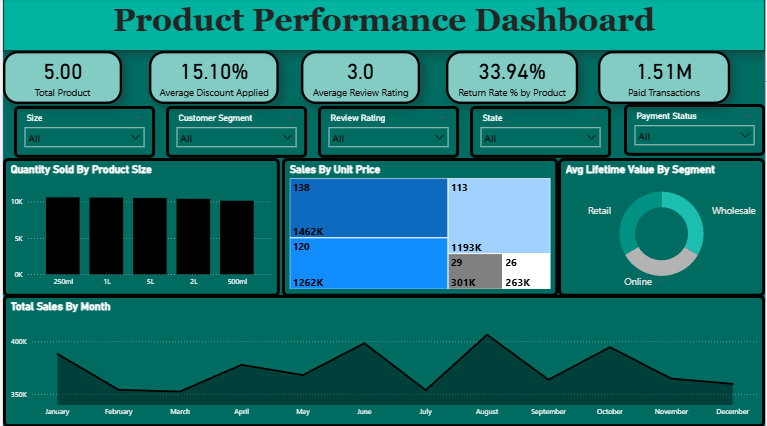

The dashboard page shown, as its layout file describes it:
{"tool":"powerbi","page":{"name":"Page 5","canvas":[1280,720],"ordinal":4},"visuals":[{"type":"shape","box":[0,0,1280,720.6],"z":0},{"type":"textbox","box":[0,0,1279.6,88.9],"z":1000},{"type":"card","fields":{"Values":["bisleri_dataset.Return Rate % by Product"]},"box":[744.1,89,221.7,89],"z":2000},{"type":"card","fields":{"Values":["Avg(bisleri_dataset.Review Rating)"]},"box":[500.6,89,199.9,89],"z":3000},{"type":"card","fields":{"Values":["Avg(bisleri_dataset.Discount Applied)"]},"box":[245.2,89,218.4,89],"z":4000},{"type":"card","fields":{"Values":["Count(bisleri_dataset.Product ID)"]},"box":[0,89,199.9,89],"z":5000},{"type":"treemap","title":"Sales By Unit Price","fields":{"Group":["bisleri_dataset.Unit Price"],"Values":["bisleri_dataset.Total Sales"]},"box":[468.7,268.8,463.6,233.5],"z":6000},{"type":"slicer","title":"Products by Total Sales","fields":{"Values":["bisleri_dataset.Size"]},"box":[18.5,181.4,236.9,87.3],"z":7000},{"type":"slicer","title":"Products by Total Sales","fields":{"Values":["bisleri_dataset.Review Rating"]},"box":[529.1,181.4,236.9,87.3],"z":8000},{"type":"slicer","title":"Products by Total Sales","fields":{"Values":["bisleri_dataset.Customer Segment"]},"box":[273.8,181.4,236.9,87.3],"z":9000},{"type":"slicer","title":"Products by Total Sales","fields":{"Values":["bisleri_dataset.Payment Status"]},"box":[1043.1,178.1,236.9,87.3],"z":10000},{"type":"slicer","title":"Products by Total Sales","fields":{"Values":["bisleri_dataset.State"]},"box":[784.5,181.4,236.9,87.3],"z":11000},{"type":"card","fields":{"Values":["bisleri_dataset.Paid Transactions"]},"box":[999.5,89,221.7,89],"z":12000},{"type":"columnChart","title":"Quantity Sold By Product SIze","fields":{"Category":["bisleri_dataset.Size"],"Y":["bisleri_dataset.Total Quantity Sold"]},"box":[0,268.8,465.3,233.5],"z":13000},{"type":"lineChart","title":"Total Sales By Month","fields":{"Category":["bisleri_dataset.Order Date.Variation.Date Hierarchy.Month"],"Y":["bisleri_dataset.Total Sales"]},"box":[0,498.9,1280,221.7],"z":14000},{"type":"donutChart","title":"Avg Lifetime Value By Segment","fields":{"Category":["bisleri_dataset.Customer Segment"],"Y":["bisleri_dataset.Average Lifetime Value"]},"box":[932.3,268.8,347.7,233.5],"z":15000}]}

Visuals, with their boxes in screenshot pixels (x1, y1, x2, y2), scaled from the page's 1280x720 canvas onto the 767x426 screenshot:
shape: bbox=[0, 0, 766, 425]
textbox: bbox=[0, 0, 766, 53]
card - bisleri_dataset.Return Rate % by Product: bbox=[446, 53, 579, 105]
card - Avg(bisleri_dataset.Review Rating): bbox=[300, 53, 420, 105]
card - Avg(bisleri_dataset.Discount Applied): bbox=[147, 53, 278, 105]
card - Count(bisleri_dataset.Product ID): bbox=[0, 53, 120, 105]
"Sales By Unit Price" treemap: bbox=[281, 159, 559, 297]
"Products by Total Sales" slicer: bbox=[11, 107, 153, 159]
"Products by Total Sales" slicer: bbox=[317, 107, 459, 159]
"Products by Total Sales" slicer: bbox=[164, 107, 306, 159]
"Products by Total Sales" slicer: bbox=[625, 105, 766, 157]
"Products by Total Sales" slicer: bbox=[470, 107, 612, 159]
card - bisleri_dataset.Paid Transactions: bbox=[599, 53, 732, 105]
"Quantity Sold By Product SIze" columnChart: bbox=[0, 159, 279, 297]
"Total Sales By Month" lineChart: bbox=[0, 295, 766, 425]
"Avg Lifetime Value By Segment" donutChart: bbox=[559, 159, 766, 297]
